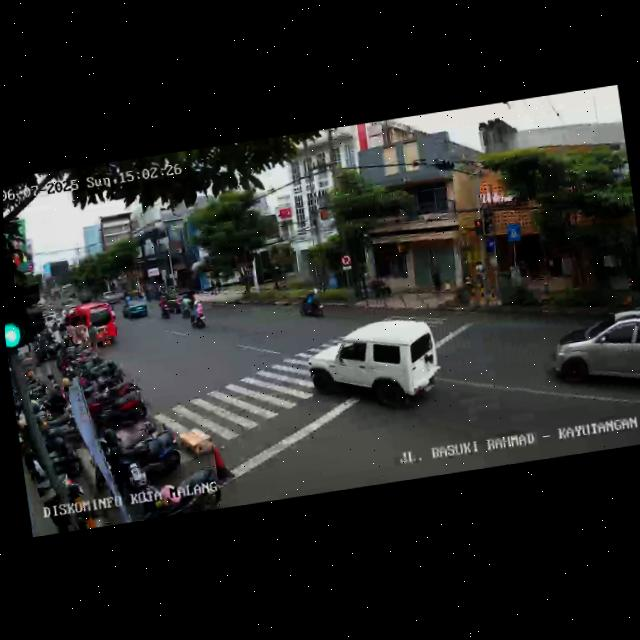car: (304, 310, 444, 427), (542, 305, 640, 412), (62, 300, 118, 354), (120, 296, 150, 321), (172, 288, 196, 313)
motorcycle: (297, 286, 326, 323), (187, 295, 208, 331), (156, 292, 172, 317)
